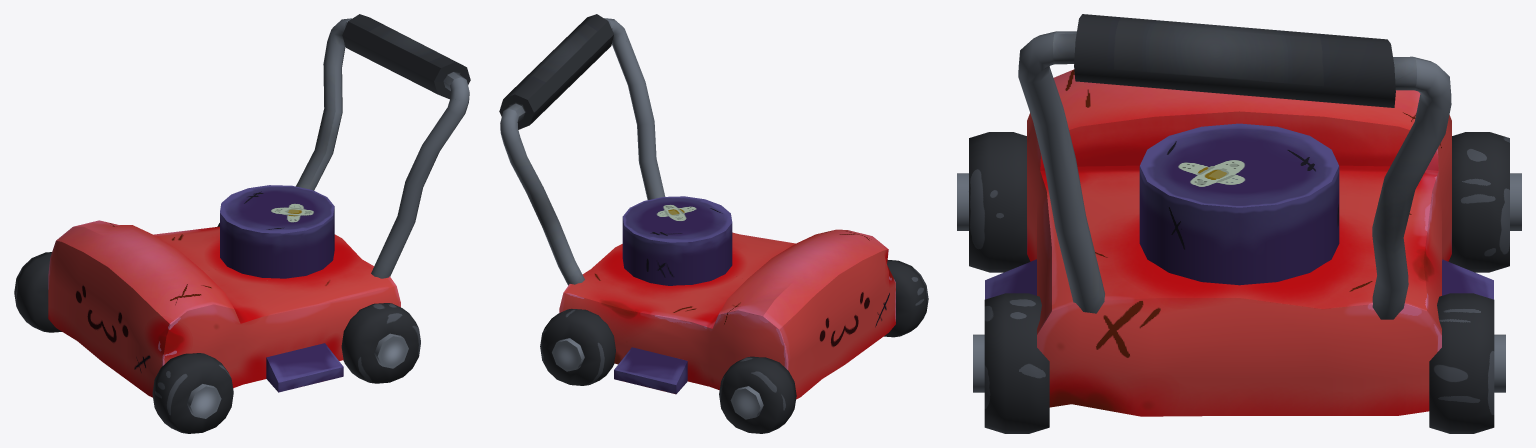
Rendered from vrumvrum finalizada.fbx.
The picture shows the model from 3 angles, left to right: view 1: azimuth 30°, elevation 25°; view 2: azimuth 150°, elevation 25°; view 3: azimuth 270°, elevation 25°; orthographic projection. The views are drawn at different scales.
Parts seen in each view (by area): view 1: corpo, rodas, guidão, motor/tanque; view 2: corpo, guidão, rodas, motor/tanque; view 3: corpo, guidão, rodas, motor/tanque.
Part boxes in pixels (bbox=[...]): corpo: bbox=[48, 220, 400, 397]; rodas: bbox=[14, 223, 420, 433]; guidão: bbox=[296, 14, 470, 278]; motor/tanque: bbox=[220, 185, 334, 278]; corpo: bbox=[559, 229, 895, 399]; guidão: bbox=[499, 14, 665, 285]; rodas: bbox=[540, 260, 928, 433]; motor/tanque: bbox=[622, 196, 732, 285]; corpo: bbox=[985, 69, 1493, 416]; guidão: bbox=[1018, 14, 1451, 319]; rodas: bbox=[957, 132, 1521, 433]; motor/tanque: bbox=[1139, 123, 1339, 285].
Bounding box in the file's own units: 158 × 128 × 135.
4 materials, 4 textured.
